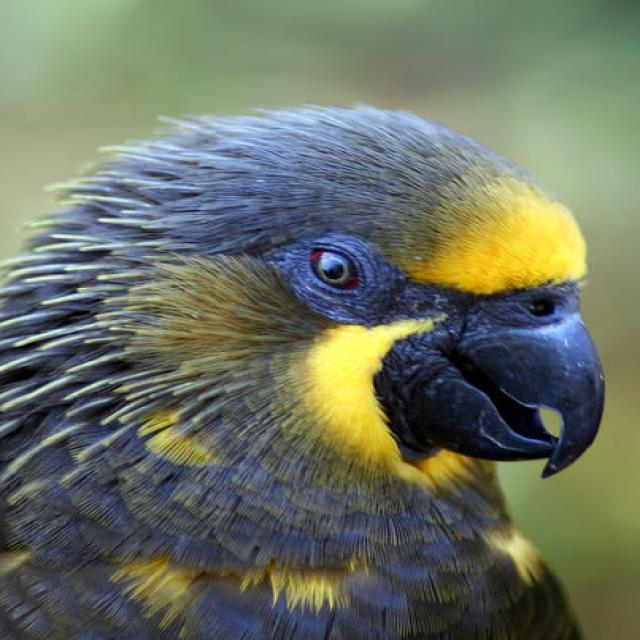bird: (1, 101, 606, 640)
